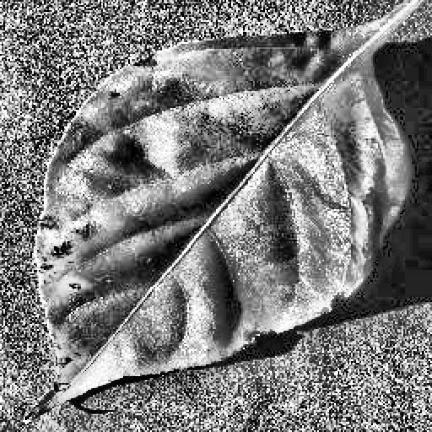leaf: (24, 0, 422, 420)
